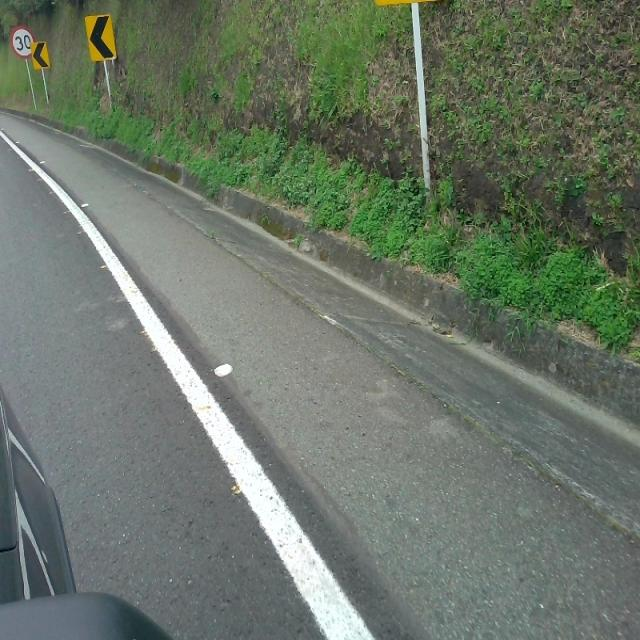DITCH: (1, 107, 638, 638), (16, 103, 638, 638)
